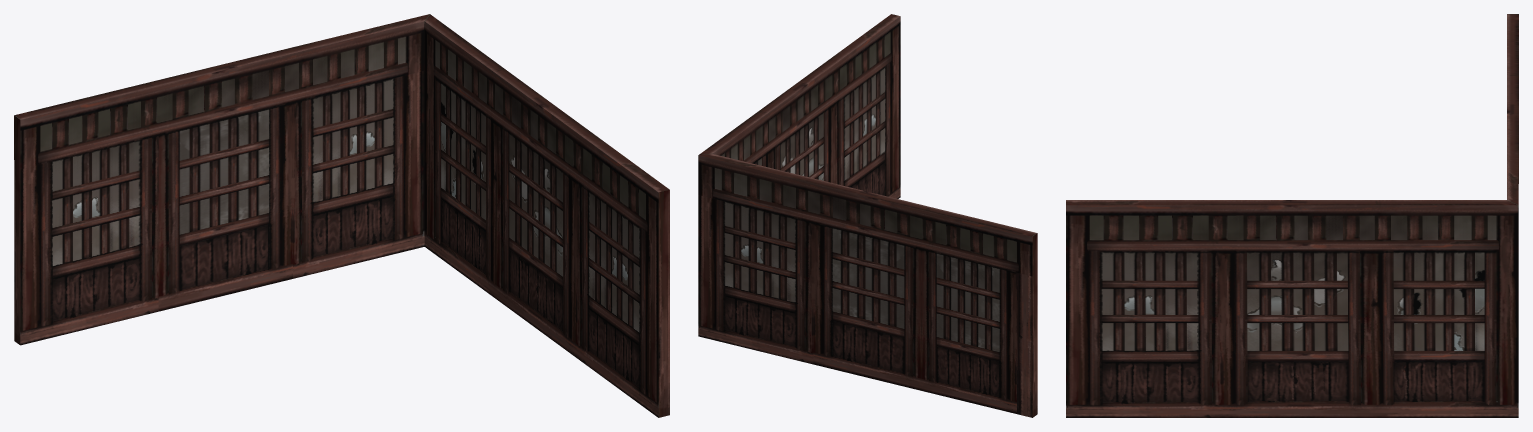
File: STR_WallHouse.FBX
The picture shows the model from 3 angles, left to right: view 1: azimuth 30°, elevation 25°; view 2: azimuth 150°, elevation 25°; view 3: azimuth 270°, elevation 25°; orthographic projection. The views are drawn at different scales.
Visible parts, largest first — view 1: STR_WallHouse; view 2: STR_WallHouse; view 3: STR_WallHouse.
Boxes of the visible parts, left/top/right/bottom form: STR_WallHouse: left=14, top=14, right=669, bottom=417; STR_WallHouse: left=698, top=14, right=1037, bottom=417; STR_WallHouse: left=1066, top=14, right=1518, bottom=417.
Bounding box in the file's own units: 665 × 345 × 665.
